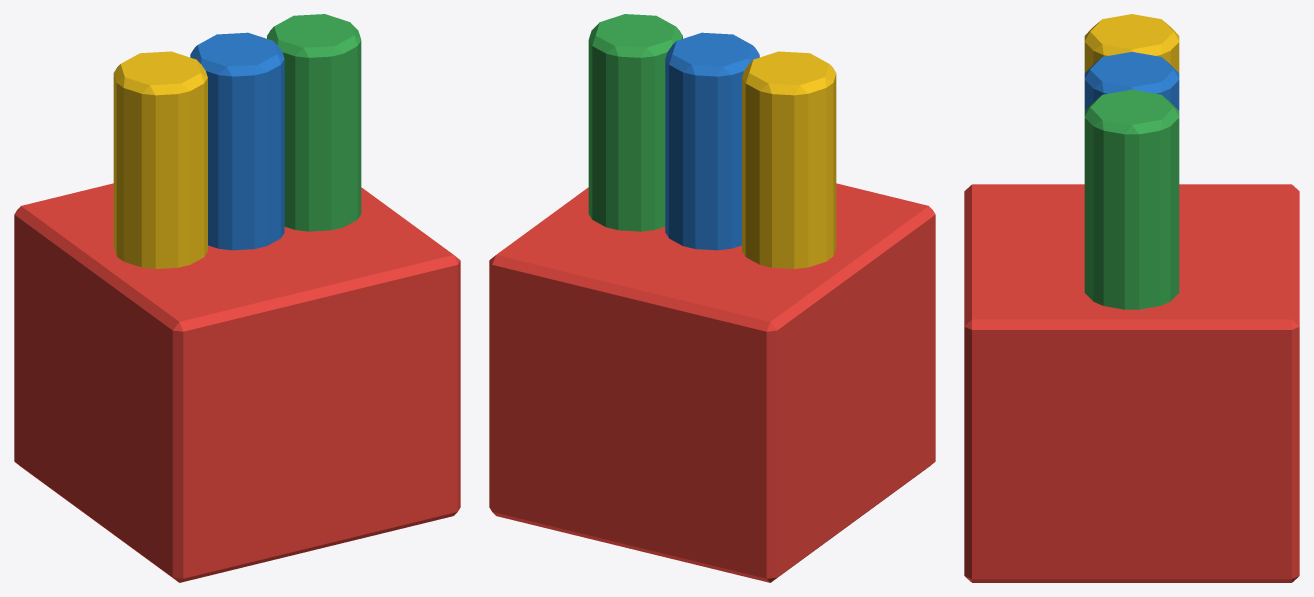
Rendered from fireworks_box.glb.
3 views of the same model, side by side, from view 1: azimuth 30°, elevation 25°; view 2: azimuth 150°, elevation 25°; view 3: azimuth 270°, elevation 25° (orthographic).
Parts seen in each view (by area): view 1: fireworks_box; view 2: fireworks_box; view 3: fireworks_box.
Part boxes in pixels (x1,y1,x2,y2): fireworks_box: (14, 14, 460, 582); fireworks_box: (489, 14, 935, 582); fireworks_box: (964, 14, 1299, 582).
Bounding box in the file's own units: 0.3 × 0.44 × 0.3.
